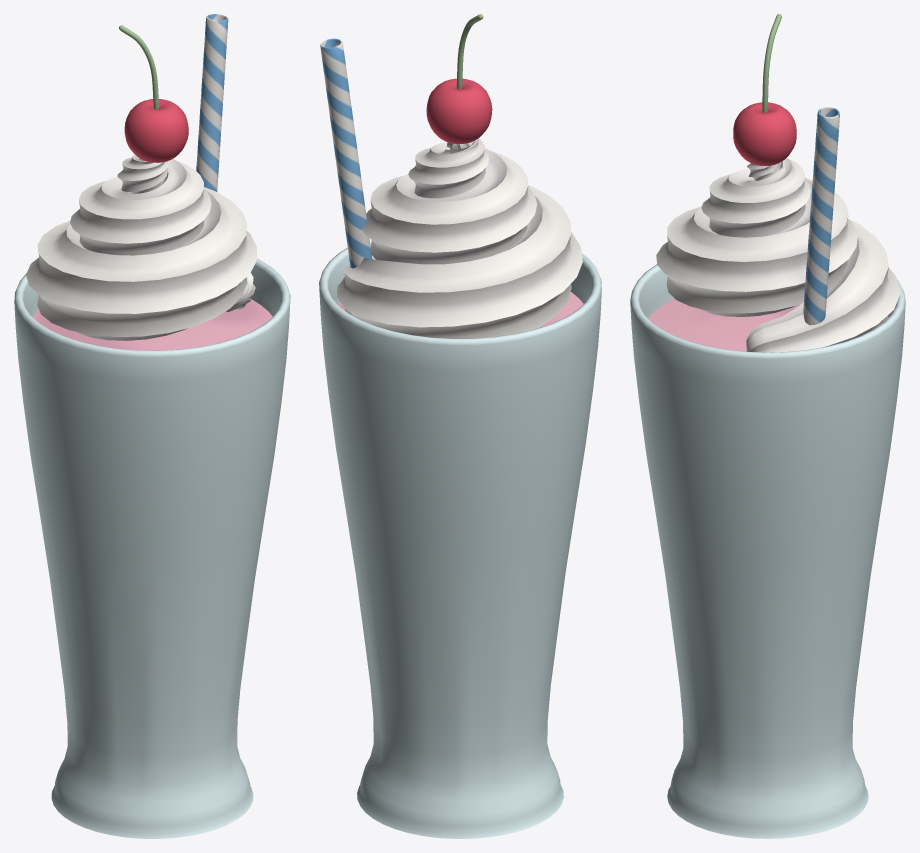
File: milkshake.glb
3 views of the same model, side by side, from view 1: azimuth 30°, elevation 25°; view 2: azimuth 150°, elevation 25°; view 3: azimuth 270°, elevation 25° (orthographic). The views are drawn at different scales.
Parts seen in each view (by area): view 1: milkshake_glass_cup, milkshake_body; view 2: milkshake_glass_cup, milkshake_body; view 3: milkshake_glass_cup, milkshake_body.
Part boxes in pixels (<box>): milkshake_glass_cup: <box>14,258,290,838</box>; milkshake_body: <box>26,14,272,350</box>; milkshake_glass_cup: <box>319,238,601,838</box>; milkshake_body: <box>320,14,583,338</box>; milkshake_glass_cup: <box>630,264,905,838</box>; milkshake_body: <box>648,14,900,352</box>.
Size of the model in its own units: 0.0904 by 0.2794 by 0.0904.
2 materials, 1 textured.
